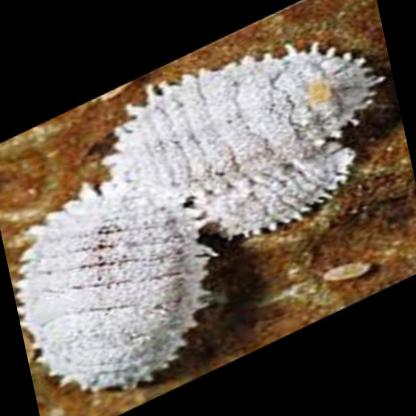mealy bug: (16, 188, 199, 385), (124, 52, 369, 193)
